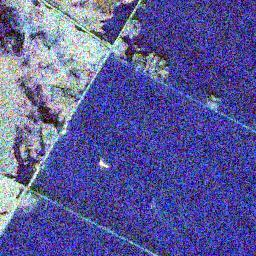Ship: (96, 157, 112, 171)
